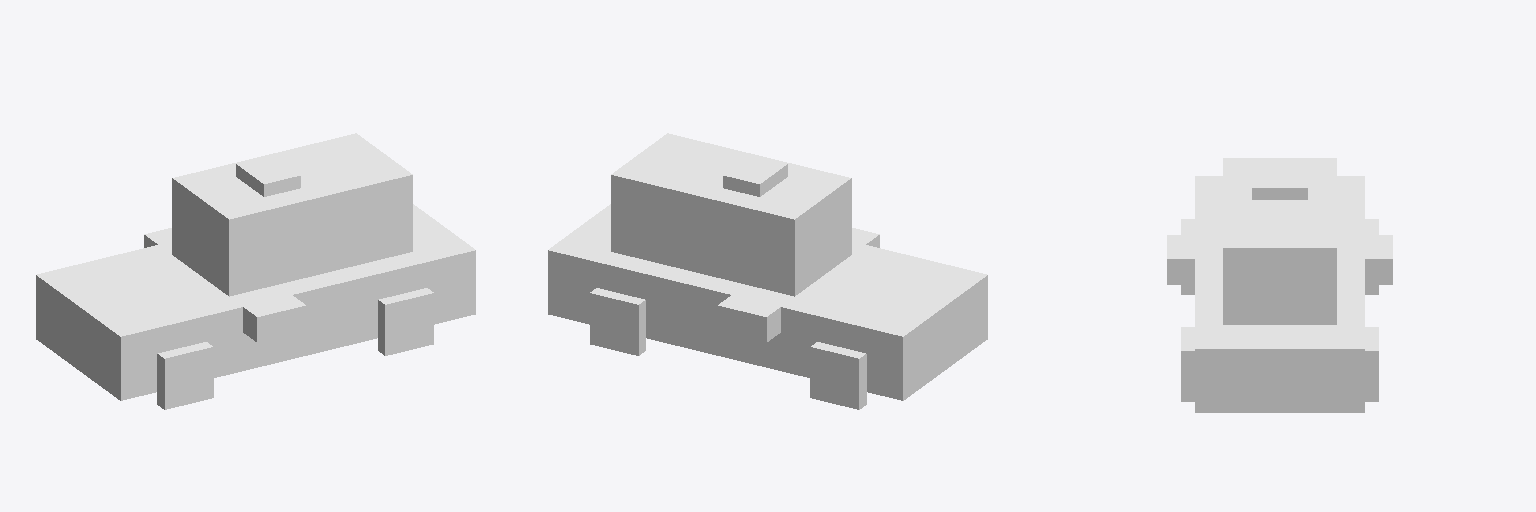
The model's file is xengancam.obj.
The picture shows the model from 3 angles: view 1: azimuth 30°, elevation 25°; view 2: azimuth 150°, elevation 25°; view 3: azimuth 270°, elevation 25°; orthographic projection.
Parts seen in each view (by area): view 1: object 1; view 2: object 1; view 3: object 1.
Part boxes in pixels (left/top/right/bottom): object 1: left=36, top=133, right=475, bottom=409; object 1: left=548, top=133, right=987, bottom=409; object 1: left=1167, top=158, right=1392, bottom=412.
Size of the model in its own units: 2.9 by 1.3 by 1.6.